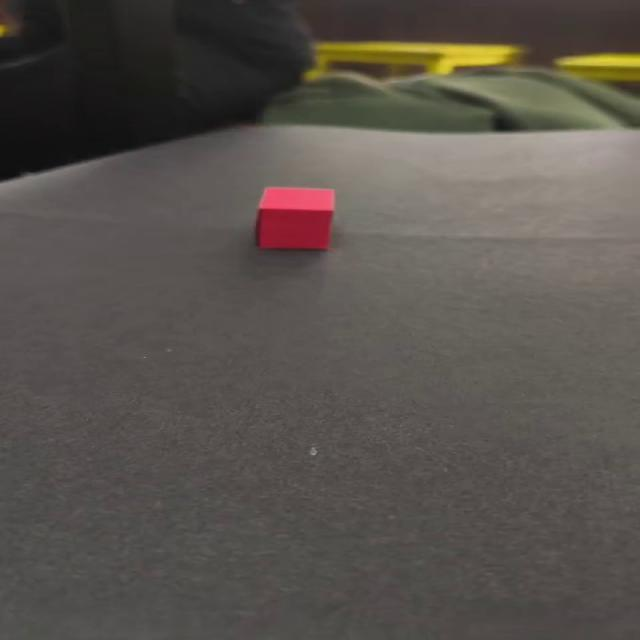red block: (254, 186, 334, 250)
